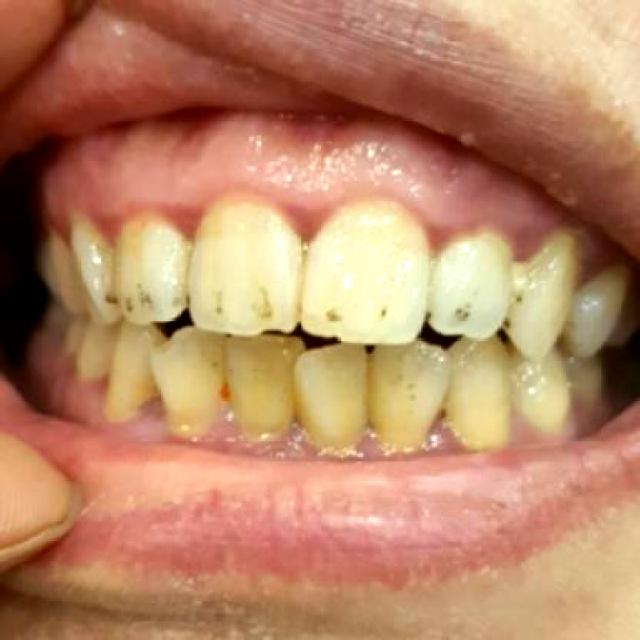Plaque: (69, 178, 580, 256), (345, 417, 472, 458), (252, 426, 321, 455), (202, 410, 248, 452)
